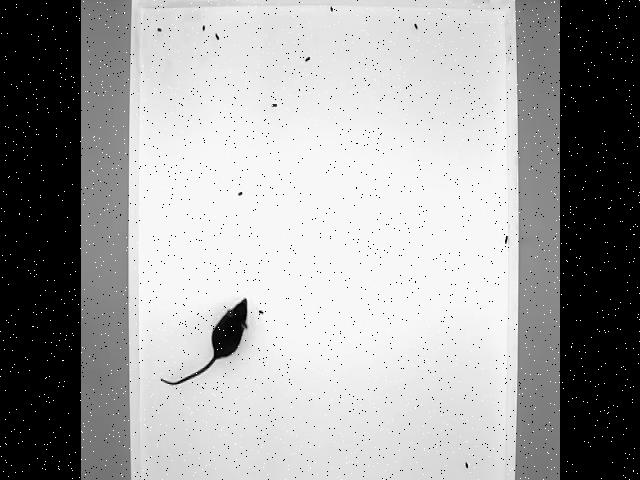Tikus: (157, 296, 250, 388)
